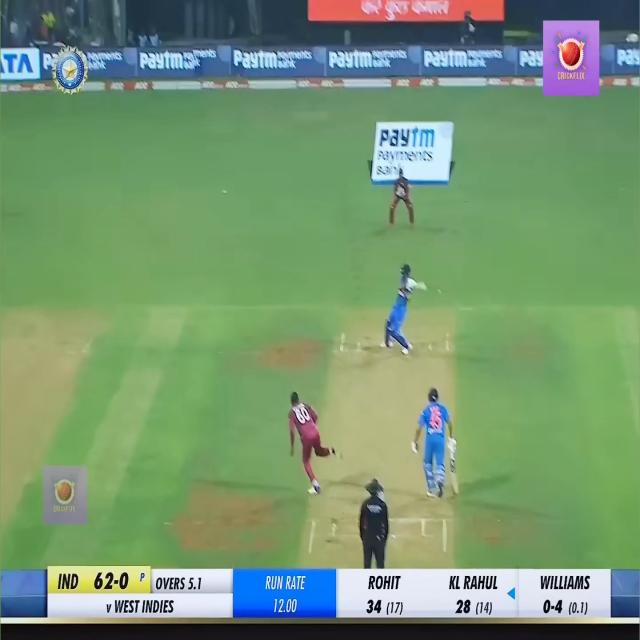fully_visible: (376, 122, 437, 150), (325, 47, 373, 76), (230, 46, 277, 75), (139, 48, 184, 72), (424, 50, 466, 74)
